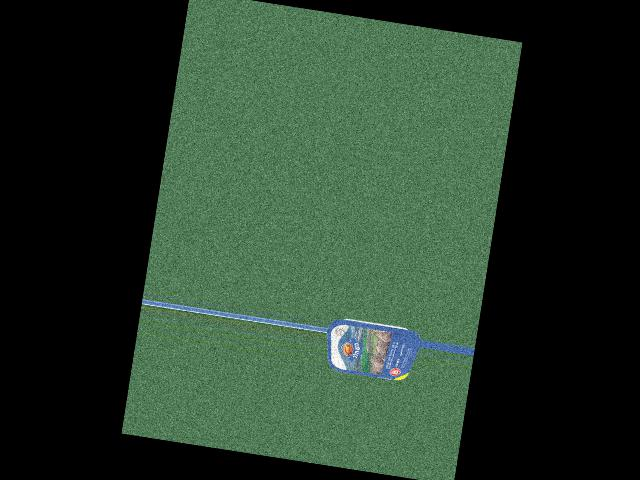cheese: (327, 310, 413, 384)
